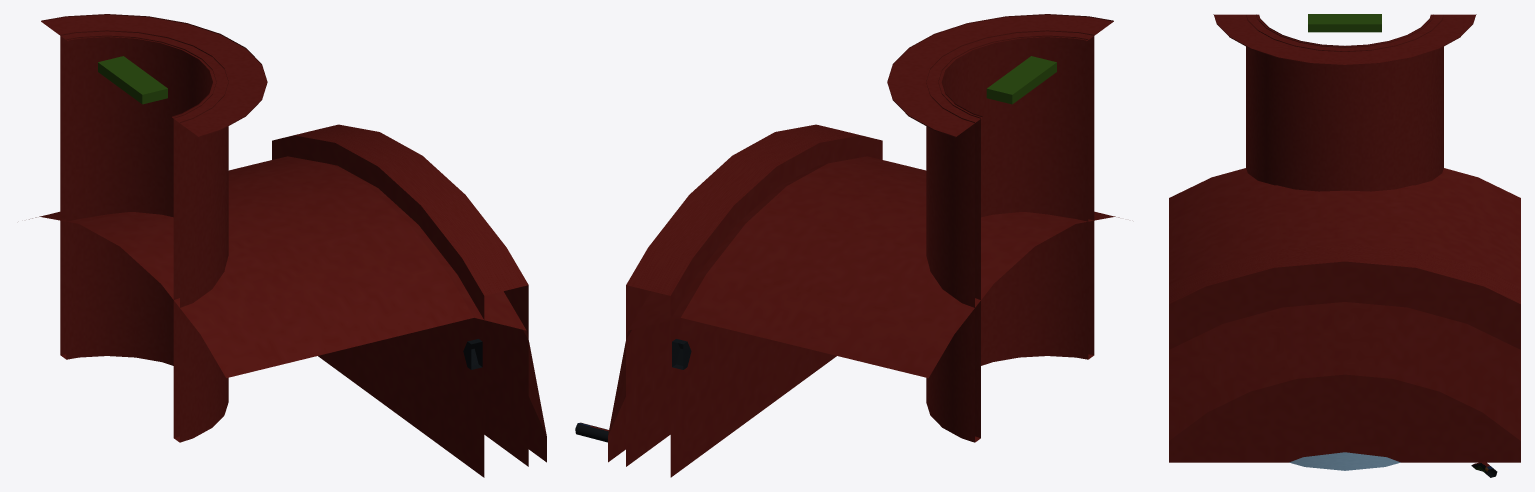
File: cell_58.obj
3 views of the same model, side by side, from view 1: azimuth 30°, elevation 25°; view 2: azimuth 150°, elevation 25°; view 3: azimuth 270°, elevation 25° (orthographic). The views are drawn at different scales.
Parts seen in each view (by area): view 1: cell_58; view 2: cell_58; view 3: cell_58.
Part boxes in pixels (<box>): cell_58: <box>29,14,546,477</box>; cell_58: <box>575,14,1119,477</box>; cell_58: <box>1169,14,1520,477</box>.
Bounding box in the file's own units: 1 × 1 × 1.
